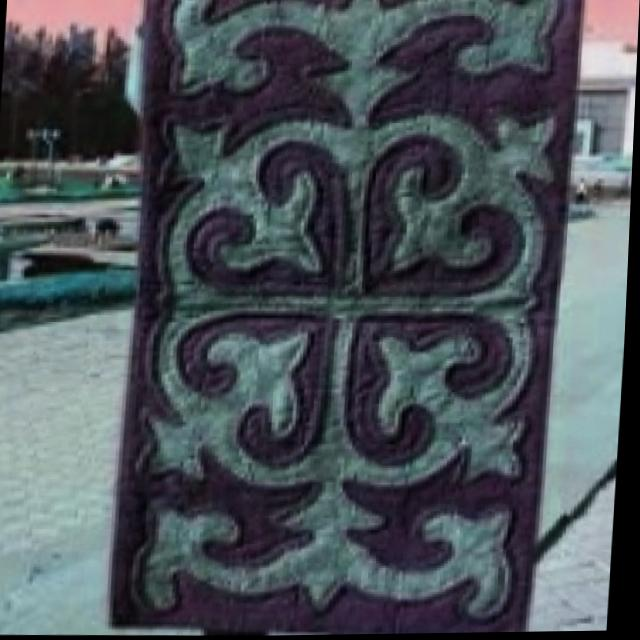Unity: (130, 105, 579, 488)
